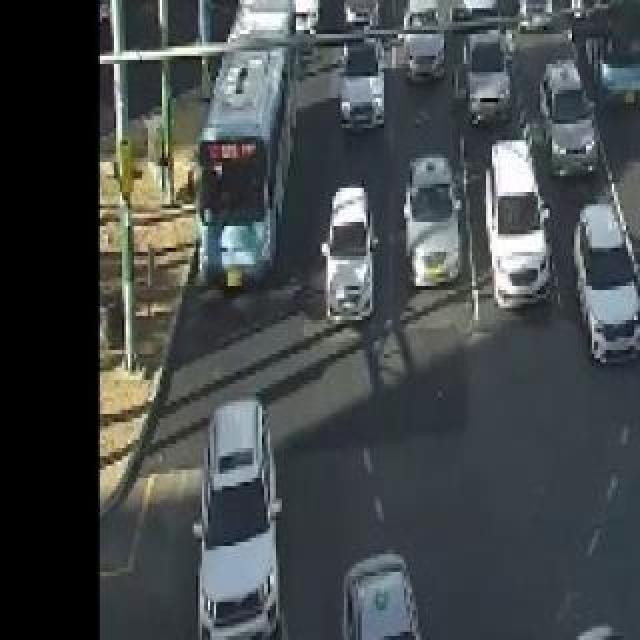car: (192, 383, 308, 640), (560, 210, 640, 392), (474, 142, 556, 315), (382, 152, 471, 306), (327, 543, 447, 640), (309, 193, 387, 329)
